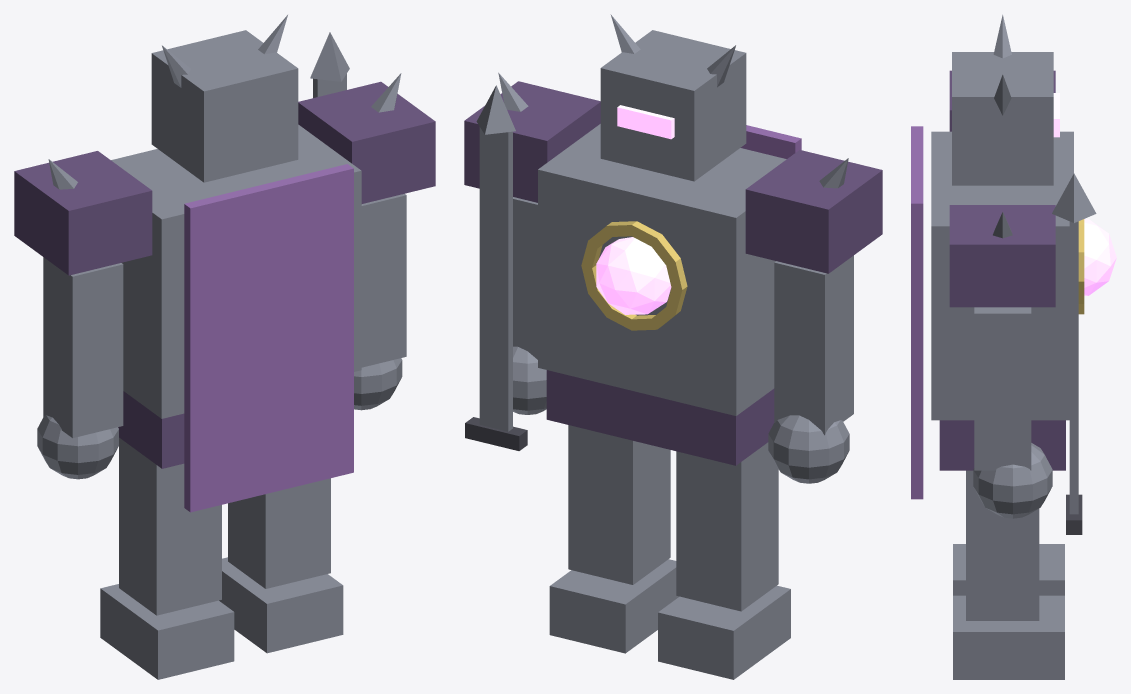
The model's file is boss_void_warden.glb.
3 views of the same model, side by side, from view 1: azimuth 30°, elevation 25°; view 2: azimuth 150°, elevation 25°; view 3: azimuth 270°, elevation 25° (orthographic). The views are drawn at different scales.
Parts seen in each view (by area): view 1: boss_void_warden_20, boss_void_warden_05, boss_void_warden_16, boss_void_warden_02, boss_void_warden_12, boss_void_warden_08, boss_void_warden_09, boss_void_warden_03, boss_void_warden_00, boss_void_warden_01, boss_void_warden_13, boss_void_warden_14 (+3 smaller); view 2: boss_void_warden_05, boss_void_warden_16, boss_void_warden_02, boss_void_warden_03, boss_void_warden_08, boss_void_warden_12, boss_void_warden_04, boss_void_warden_22, boss_void_warden_00, boss_void_warden_01, boss_void_warden_09, boss_void_warden_06 (+8 smaller); view 3: boss_void_warden_05, boss_void_warden_16, boss_void_warden_09, boss_void_warden_13, boss_void_warden_03, boss_void_warden_01, boss_void_warden_20, boss_void_warden_15, boss_void_warden_04, boss_void_warden_22, boss_void_warden_00, boss_void_warden_06 (+5 smaller).
Part boxes in pixels (<box>): boss_void_warden_20: <box>184,164,353,512</box>; boss_void_warden_05: <box>111,124,361,418</box>; boss_void_warden_16: <box>151,30,298,182</box>; boss_void_warden_02: <box>119,437,221,615</box>; boss_void_warden_12: <box>43,257,123,438</box>; boss_void_warden_08: <box>14,151,152,275</box>; boss_void_warden_09: <box>298,81,435,203</box>; boss_void_warden_03: <box>228,478,330,588</box>; boss_void_warden_00: <box>100,584,234,679</box>; boss_void_warden_01: <box>219,557,343,653</box>; boss_void_warden_13: <box>361,193,406,367</box>; boss_void_warden_14: <box>37,415,118,479</box>; boss_void_warden_05: <box>538,124,786,415</box>; boss_void_warden_16: <box>600,30,746,181</box>; boss_void_warden_02: <box>676,442,778,611</box>; boss_void_warden_03: <box>568,425,670,584</box>; boss_void_warden_08: <box>745,150,882,273</box>; boss_void_warden_12: <box>774,255,853,435</box>; boss_void_warden_04: <box>546,370,774,465</box>; boss_void_warden_22: <box>479,127,512,431</box>; boss_void_warden_00: <box>658,585,790,679</box>; boss_void_warden_01: <box>549,559,679,653</box>; boss_void_warden_09: <box>464,81,600,202</box>; boss_void_warden_06: <box>596,237,671,314</box>; boss_void_warden_05: <box>931,131,1073,420</box>; boss_void_warden_16: <box>952,52,1053,185</box>; boss_void_warden_09: <box>949,205,1055,307</box>; boss_void_warden_13: <box>974,307,1031,470</box>; boss_void_warden_03: <box>966,470,1039,620</box>; boss_void_warden_01: <box>953,595,1064,679</box>; boss_void_warden_20: <box>911,126,923,499</box>; boss_void_warden_15: <box>973,443,1052,518</box>; boss_void_warden_04: <box>939,420,1065,470</box>; boss_void_warden_22: <box>1069,221,1078,514</box>; boss_void_warden_00: <box>953,544,1064,595</box>; boss_void_warden_06: <box>1084,219,1116,295</box>.
Bounding box in the file's own units: 2.02 × 3.2 × 1.01.
